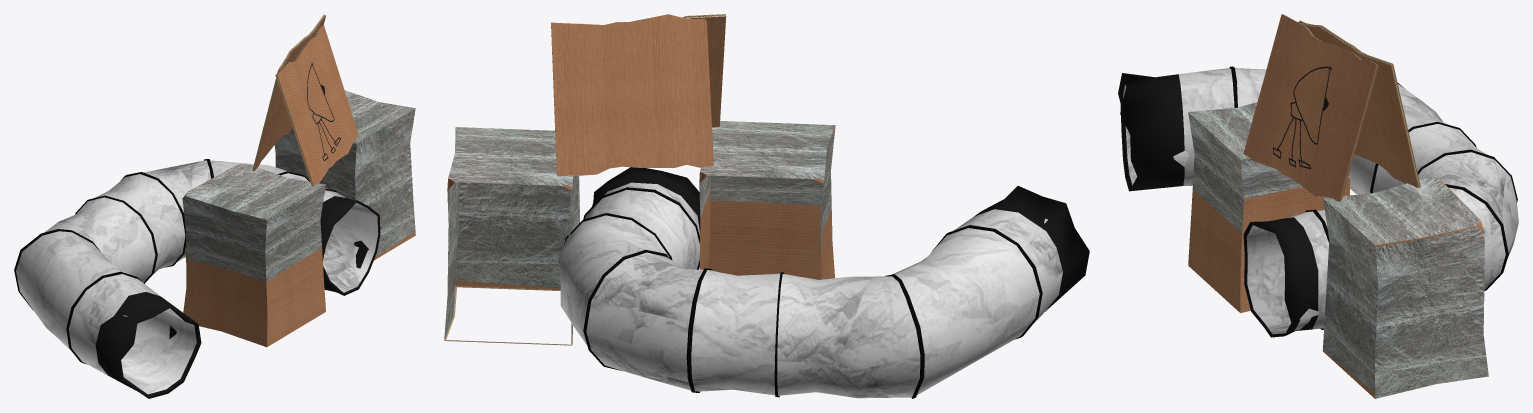
Rendered from SpaceBase.FBX.
3 views of the same model, side by side, from view 1: azimuth 30°, elevation 25°; view 2: azimuth 150°, elevation 25°; view 3: azimuth 270°, elevation 25° (orthographic). The views are drawn at different scales.
Parts seen in each view (by area): view 1: SpaceBase; view 2: SpaceBase; view 3: SpaceBase.
Boxes of the visible parts, <box> form: SpaceBase: <box>14,14,415,398</box>; SpaceBase: <box>444,14,1089,398</box>; SpaceBase: <box>1118,14,1518,398</box>.
Bounding box in the file's own units: 7.76 × 4.3 × 5.46.
